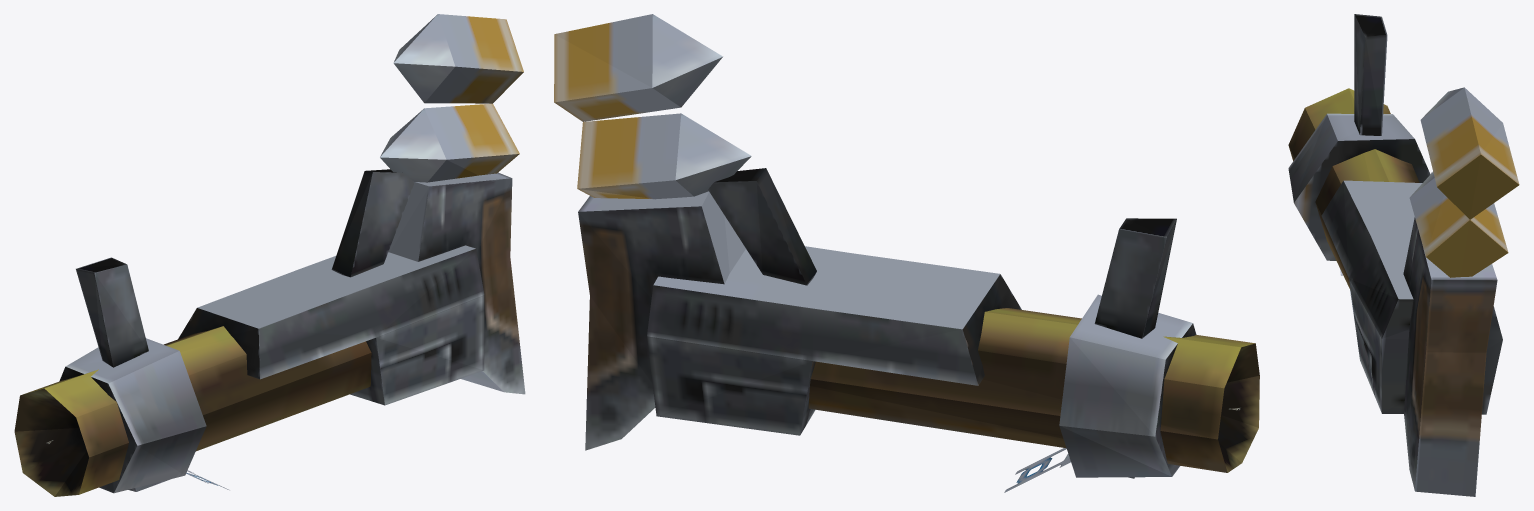
Rendered from XPARA.obj.
The picture shows the model from 3 angles, left to right: view 1: azimuth 30°, elevation 25°; view 2: azimuth 150°, elevation 25°; view 3: azimuth 270°, elevation 25°; orthographic projection. The views are drawn at different scales.
Visible parts, largest first — view 1: Node 0; view 2: Node 0; view 3: Node 0.
Boxes of the visible parts, left/top/right/bottom form: Node 0: left=14, top=14, right=525, bottom=496; Node 0: left=554, top=14, right=1259, bottom=492; Node 0: left=1288, top=14, right=1519, bottom=496.
Bounding box in the file's own units: 1.11 × 0.77 × 0.42.
Materials: 2 (2 with a texture image).
